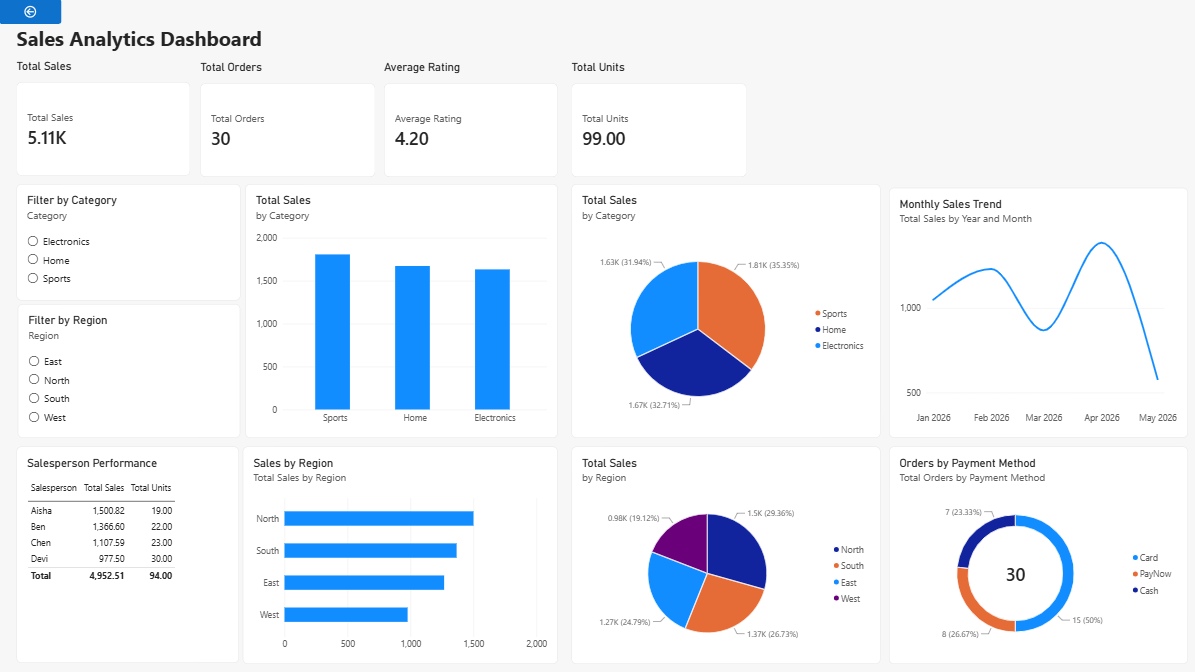

Layout of this report page (visuals, bound fields, positions):
{"tool":"powerbi","page":{"name":"Page 1","canvas":[1920,1080],"ordinal":0},"visuals":[{"type":"cardVisual","title":"Total Sales","fields":{"Data":["Sales Data.Total Sales"]},"box":[28.8,96,278.9,187],"z":0},{"type":"cardVisual","title":"Total Orders","fields":{"Data":["Sales Data.Total Orders"]},"box":[322,98,280.5,187],"z":3},{"type":"cardVisual","title":"Average Rating","fields":{"Data":["Sales Data.Average Rating"]},"box":[616,98,278.9,187],"z":4},{"type":"cardVisual","title":"Total Units","fields":{"Data":["Sales Data.Total Units"]},"box":[916,98,280.5,187],"z":5},{"type":"clusteredBarChart","title":"Sales by Region","fields":{"Category":["Sales Data.Region"],"Y":["Sales Data.Total Sales"]},"box":[390,716,504,348],"z":6},{"type":"clusteredColumnChart","fields":{"Category":["Sales Data.Category"],"Y":["Sales Data.Total Sales"]},"box":[394,296,500,406],"z":7},{"type":"lineChart","title":"Monthly Sales Trend","fields":{"Category":["Sales Data.Order Date.Variation.Date Hierarchy.Year","Sales Data.Order Date.Variation.Date Hierarchy.Month"],"Y":["Sales Data.Total Sales"]},"box":[1424,302,478,400],"z":8},{"type":"tableEx","title":"Salesperson Performance","fields":{"Values":["Sales Data.Salesperson","Sales Data.Total Sales","Sales Data.Total Units"]},"box":[28,716,356,346],"z":9},{"type":"actionButton","box":[0,0,100,40],"z":10},{"type":"listSlicer","title":"Filter by Category","fields":{"Values":["Sales Data.Category"]},"box":[28,296,358,186],"z":11},{"type":"listSlicer","title":"Filter by Region","fields":{"Values":["Sales Data.Region"]},"box":[30,488,356,214],"z":12},{"type":"textbox","box":[1633,97,281,187],"z":13},{"type":"textbox","box":[28,40,776,58],"z":14},{"type":"pieChart","fields":{"Category":["Sales Data.Region"],"Y":["Sales Data.Total Sales"]},"box":[916,716,494,348],"z":15},{"type":"pieChart","fields":{"Category":["Sales Data.Category"],"Y":["Sales Data.Total Sales"]},"box":[916,296,494,406],"z":16},{"type":"donutChart","title":"Orders by Payment Method","fields":{"Category":["Sales Data.Payment Method"],"Y":["Sales Data.Total Orders"]},"box":[1424,716,478,348],"z":17}]}

Visuals, with their boxes on the page's 1920x1080 design canvas (x1, y1, x2, y2). These are canvas units, not pixel positions in the 1195x672 screenshot, which may show the page scaled, cropped or inside an application window:
"Total Sales" cardVisual: {"left": 29, "top": 96, "right": 308, "bottom": 283}
"Total Orders" cardVisual: {"left": 322, "top": 98, "right": 602, "bottom": 285}
"Average Rating" cardVisual: {"left": 616, "top": 98, "right": 895, "bottom": 285}
"Total Units" cardVisual: {"left": 916, "top": 98, "right": 1196, "bottom": 285}
"Sales by Region" clusteredBarChart: {"left": 390, "top": 716, "right": 894, "bottom": 1064}
clusteredColumnChart - Sales Data.Category x Sales Data.Total Sales: {"left": 394, "top": 296, "right": 894, "bottom": 702}
"Monthly Sales Trend" lineChart: {"left": 1424, "top": 302, "right": 1902, "bottom": 702}
"Salesperson Performance" tableEx: {"left": 28, "top": 716, "right": 384, "bottom": 1062}
actionButton: {"left": 0, "top": 0, "right": 100, "bottom": 40}
"Filter by Category" listSlicer: {"left": 28, "top": 296, "right": 386, "bottom": 482}
"Filter by Region" listSlicer: {"left": 30, "top": 488, "right": 386, "bottom": 702}
textbox: {"left": 1633, "top": 97, "right": 1914, "bottom": 284}
textbox: {"left": 28, "top": 40, "right": 804, "bottom": 98}
pieChart - Sales Data.Region x Sales Data.Total Sales: {"left": 916, "top": 716, "right": 1410, "bottom": 1064}
pieChart - Sales Data.Category x Sales Data.Total Sales: {"left": 916, "top": 296, "right": 1410, "bottom": 702}
"Orders by Payment Method" donutChart: {"left": 1424, "top": 716, "right": 1902, "bottom": 1064}
